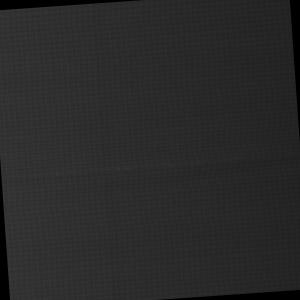Wrinkle: (66, 3, 134, 300), (1, 145, 300, 204)
